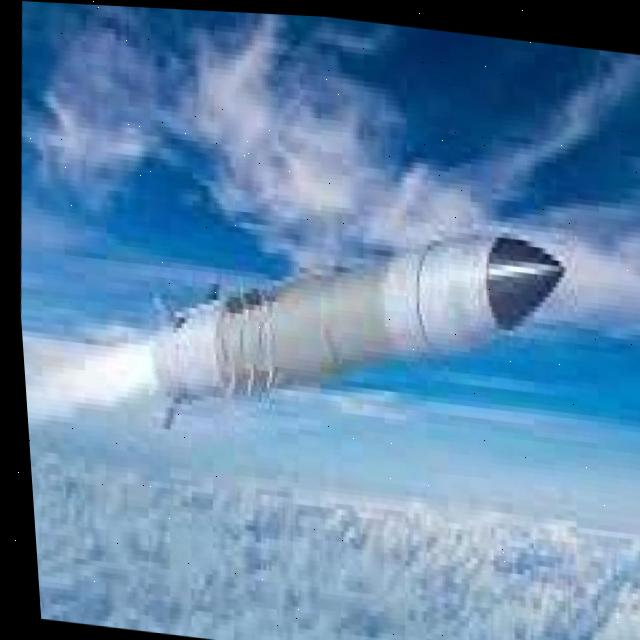missile: (135, 190, 576, 469)
